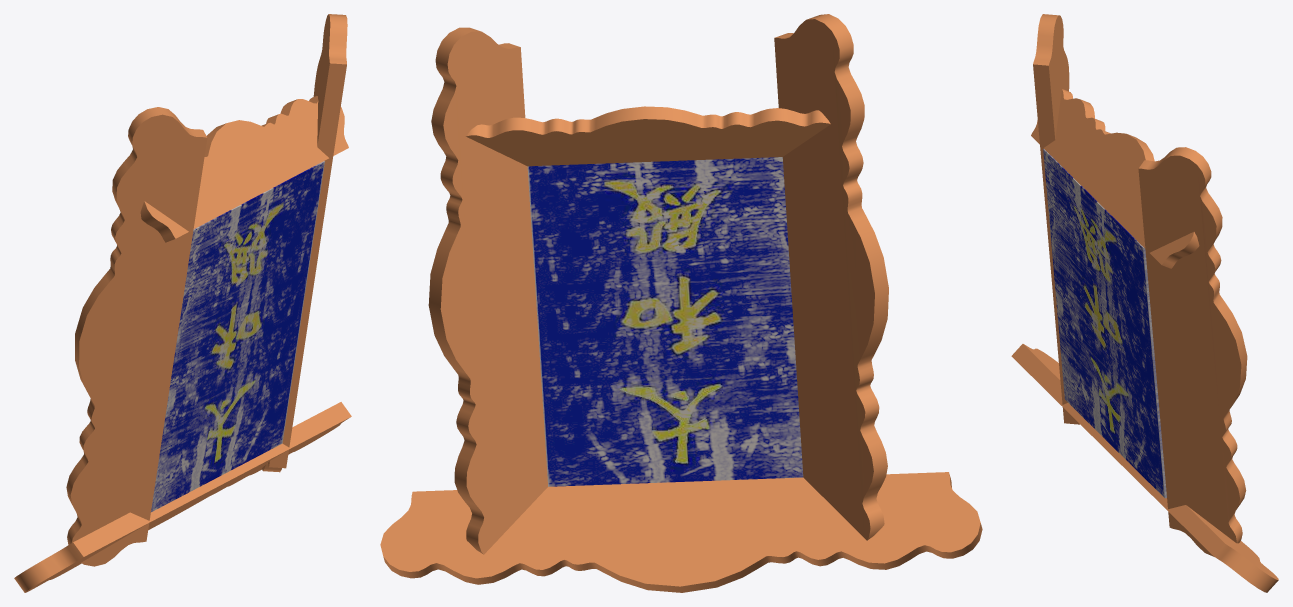
3 renders of one model, left to right at view 1: azimuth 30°, elevation 25°; view 2: azimuth 150°, elevation 25°; view 3: azimuth 270°, elevation 25°, orthographic. The views are drawn at different scales.
Parts seen in each view (by area): view 1: 牌匾; view 2: 牌匾; view 3: 牌匾.
Part boxes in pixels (x1,y1,x2,y2): 牌匾: (14, 14, 351, 592); 牌匾: (380, 14, 982, 592); 牌匾: (1011, 14, 1278, 592).
Size of the model in its own units: 0.0848 by 0.092 by 0.0489.
Materials: 2 (1 with a texture image).
